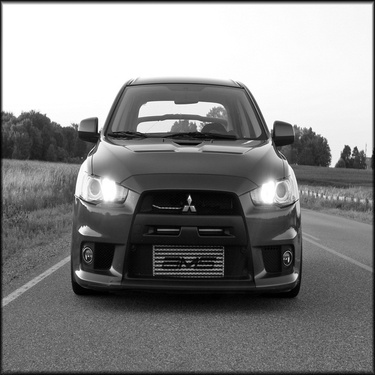car: (54, 66, 316, 312)
